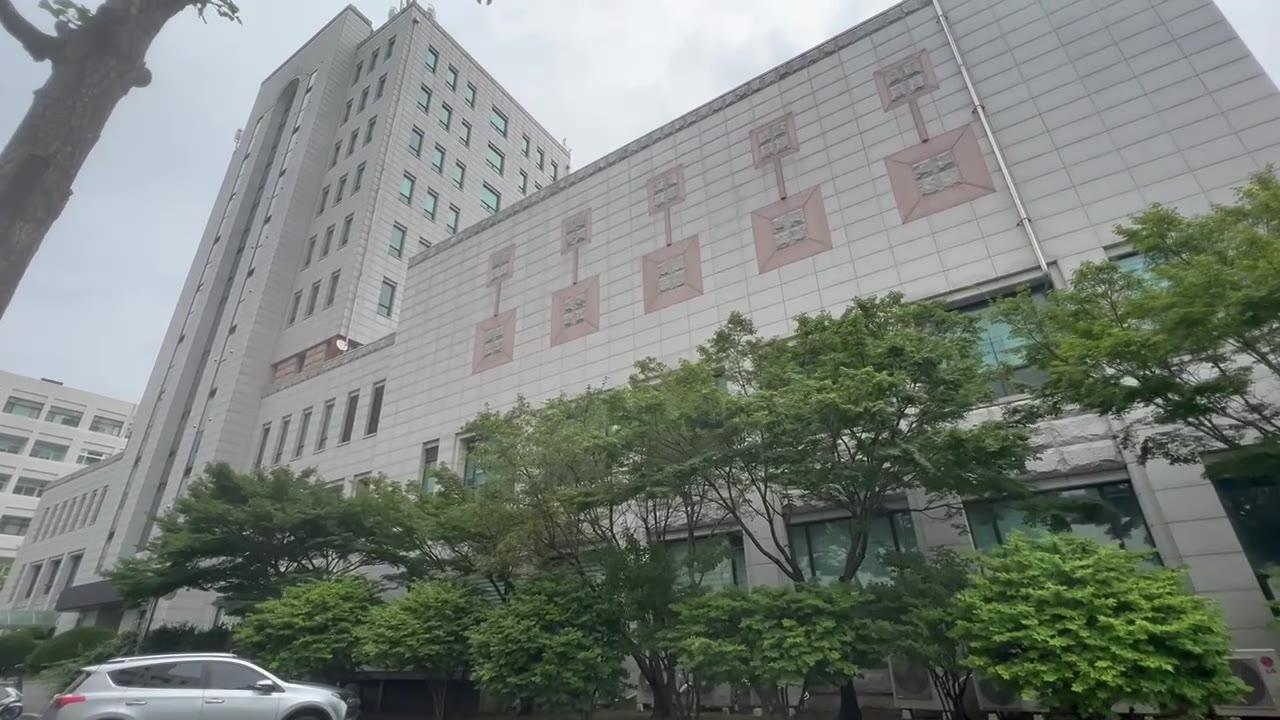building: (212, 33, 1012, 380)
